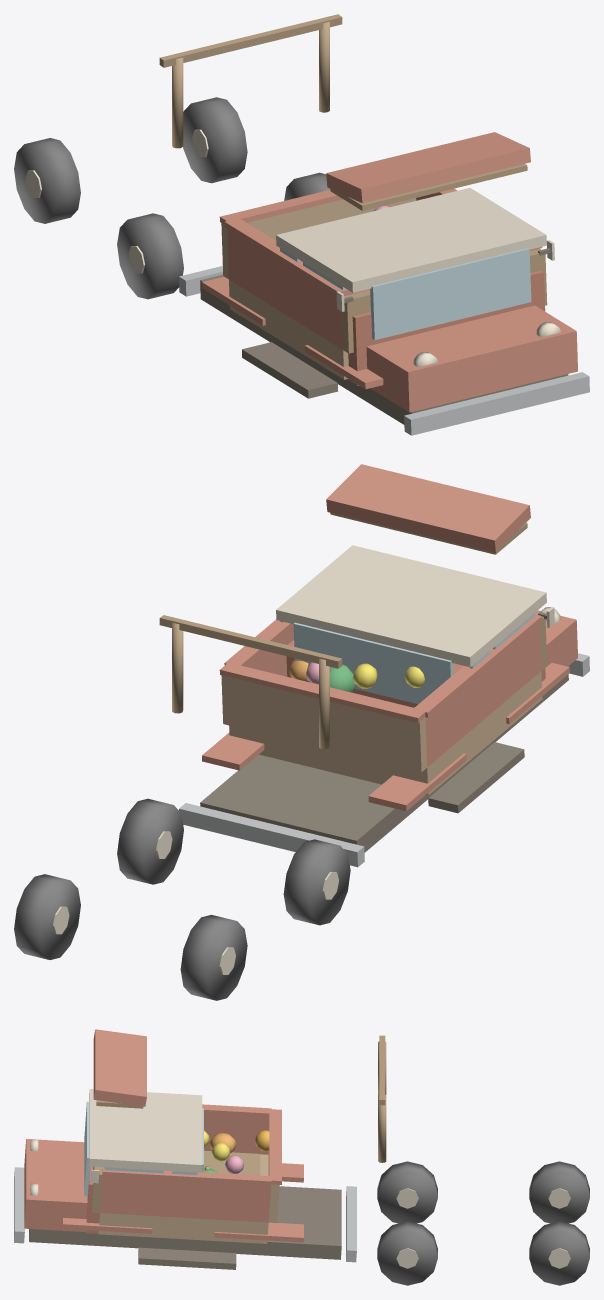
File: shop_truck_exit.fbx
The picture shows the model from 3 angles, top to bottom: view 1: azimuth 30°, elevation 25°; view 2: azimuth 150°, elevation 25°; view 3: azimuth 270°, elevation 25°; orthographic projection. The views are drawn at different scales.
Visible parts, largest first — view 1: Body_shop_truck, BedWalls_shop_truck, Awning_shop_truck, Wheel_RL_shop_truck, Wheel_FL_shop_truck, Wheel_RR_shop_truck, AwningPosts_shop_truck, BedTrunk_shop_truck, Wheel_FR_shop_truck; view 2: Body_shop_truck, BedWalls_shop_truck, Awning_shop_truck, BedTrunk_shop_truck, Wheel_FR_shop_truck, Wheel_FL_shop_truck, Wheel_RR_shop_truck, Wheel_RL_shop_truck, AwningPosts_shop_truck, Fruits_shop_truck; view 3: Body_shop_truck, BedWalls_shop_truck, BedTrunk_shop_truck, Awning_shop_truck, Wheel_FR_shop_truck, Wheel_RR_shop_truck, Wheel_FL_shop_truck, Wheel_RL_shop_truck, Fruits_shop_truck, AwningPosts_shop_truck.
Part boxes in pixels (bbox=[...]): Body_shop_truck: bbox=[179, 188, 589, 435]; BedWalls_shop_truck: bbox=[219, 188, 547, 353]; Awning_shop_truck: bbox=[326, 132, 530, 210]; Wheel_RL_shop_truck: bbox=[14, 138, 80, 223]; Wheel_FL_shop_truck: bbox=[117, 213, 183, 299]; Wheel_RR_shop_truck: bbox=[183, 97, 247, 183]; AwningPosts_shop_truck: bbox=[159, 14, 342, 148]; BedTrunk_shop_truck: bbox=[229, 280, 348, 379]; Wheel_FR_shop_truck: bbox=[284, 172, 330, 200]; Body_shop_truck: bbox=[179, 545, 589, 867]; BedWalls_shop_truck: bbox=[219, 613, 547, 772]; Awning_shop_truck: bbox=[326, 464, 530, 554]; BedTrunk_shop_truck: bbox=[229, 671, 542, 795]; Wheel_FR_shop_truck: bbox=[117, 798, 183, 884]; Wheel_FL_shop_truck: bbox=[283, 839, 350, 925]; Wheel_RR_shop_truck: bbox=[14, 874, 80, 959]; Wheel_RL_shop_truck: bbox=[180, 915, 247, 1000]; AwningPosts_shop_truck: bbox=[159, 615, 342, 749]; Fruits_shop_truck: bbox=[289, 660, 424, 692]; Body_shop_truck: bbox=[14, 1089, 356, 1269]; BedWalls_shop_truck: bbox=[91, 1104, 281, 1222]; BedTrunk_shop_truck: bbox=[98, 1150, 268, 1243]; Awning_shop_truck: bbox=[93, 1029, 146, 1108]; Wheel_FR_shop_truck: bbox=[377, 1221, 437, 1285]; Wheel_RR_shop_truck: bbox=[529, 1221, 589, 1285]; Wheel_FL_shop_truck: bbox=[377, 1161, 437, 1223]; Wheel_RL_shop_truck: bbox=[529, 1161, 589, 1223]; Fruits_shop_truck: bbox=[203, 1130, 269, 1173]; AwningPosts_shop_truck: bbox=[378, 1035, 386, 1162].
Bounding box in the file's own units: 218 × 250 × 682.
